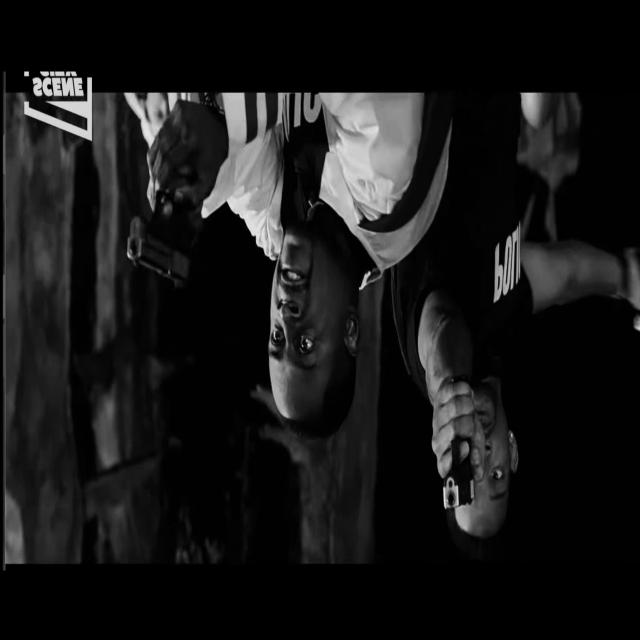weapons: (114, 120, 204, 297), (431, 356, 483, 524)
